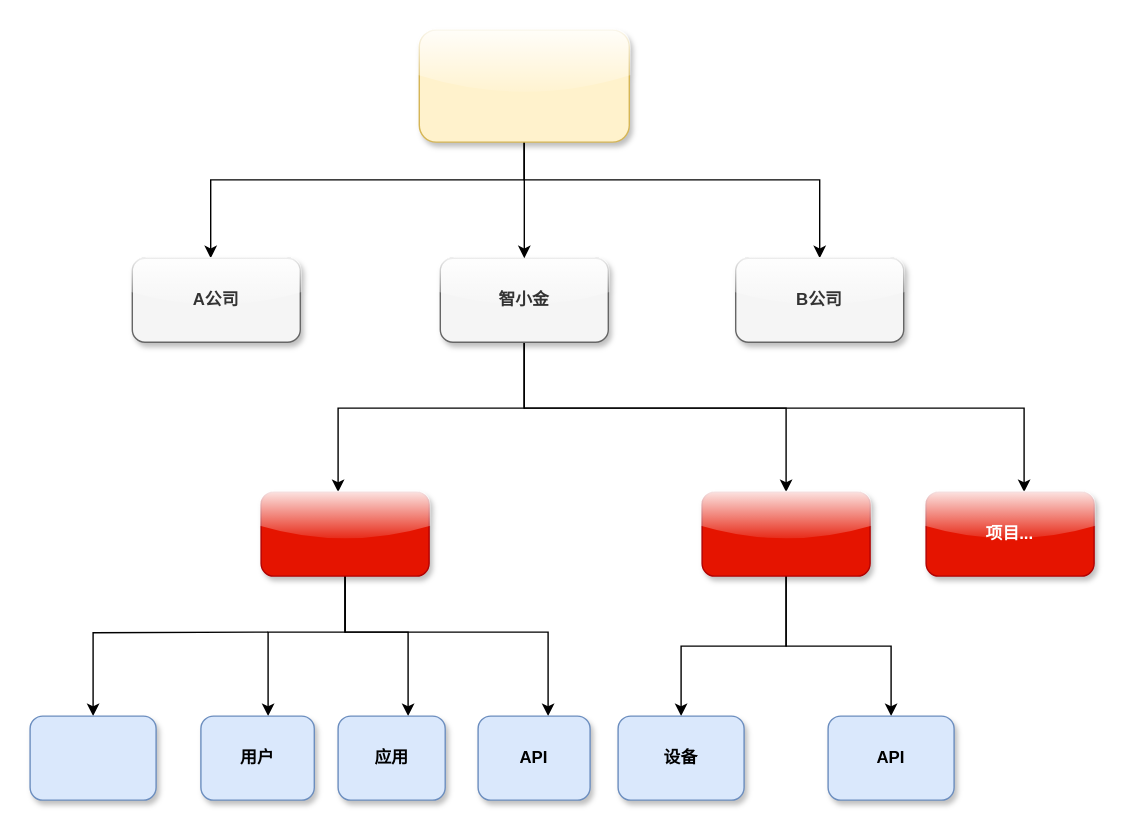
Image size: 1127x834. Some labels were removed from this diagram. The centre of each missing label's shape, as x and y in pixels:
"智能家居项目" goes at point (786, 535).
"智能楼宇项目" goes at point (346, 535).
"资产（设备）" goes at point (93, 759).
"鲲鹭云" goes at point (525, 87).
